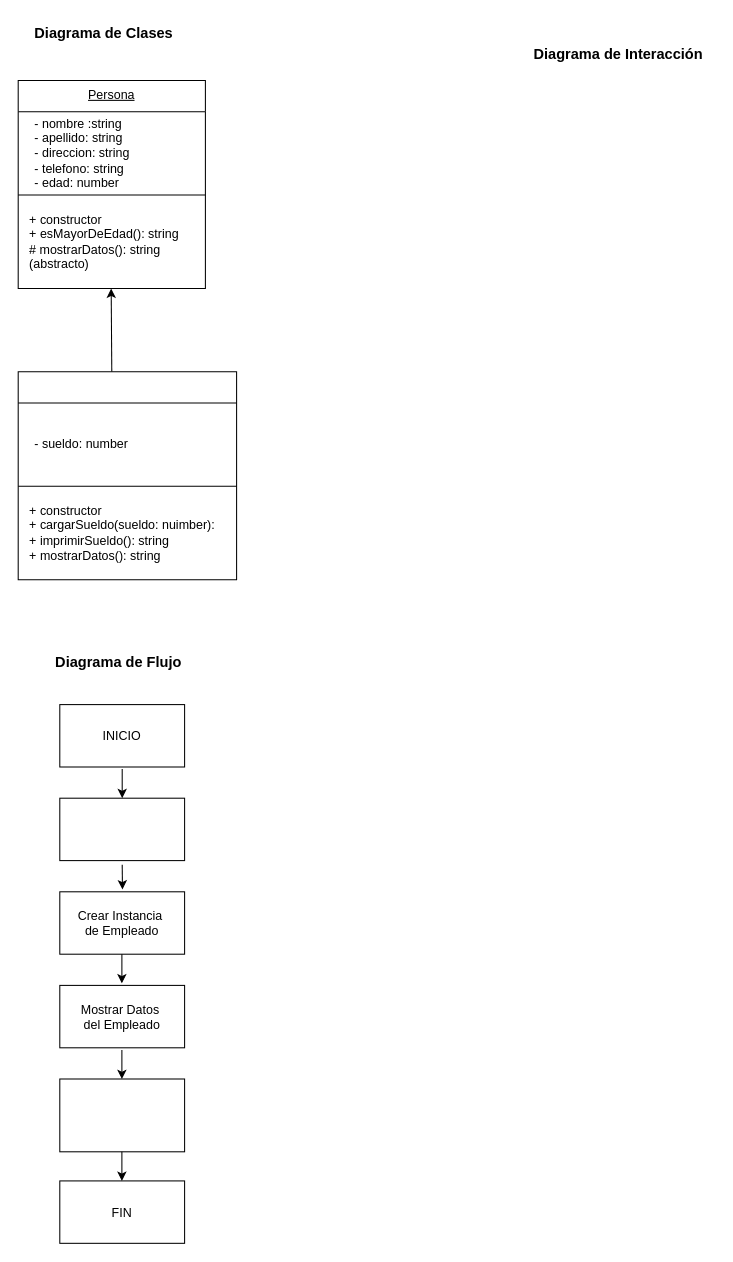
The diagram is 733 pixels wide and 1262 high, and some of its shapes have lost their labels. Here are the shapes that lost their labels. From the top down, the box of each, then its label:
(17, 371, 237, 580): Empleado
(59, 797, 185, 861): Leer Datos de Entrada
(59, 1078, 185, 1152): USUARIO selec. una cancion y hace clic en "Mostrar Datos"
